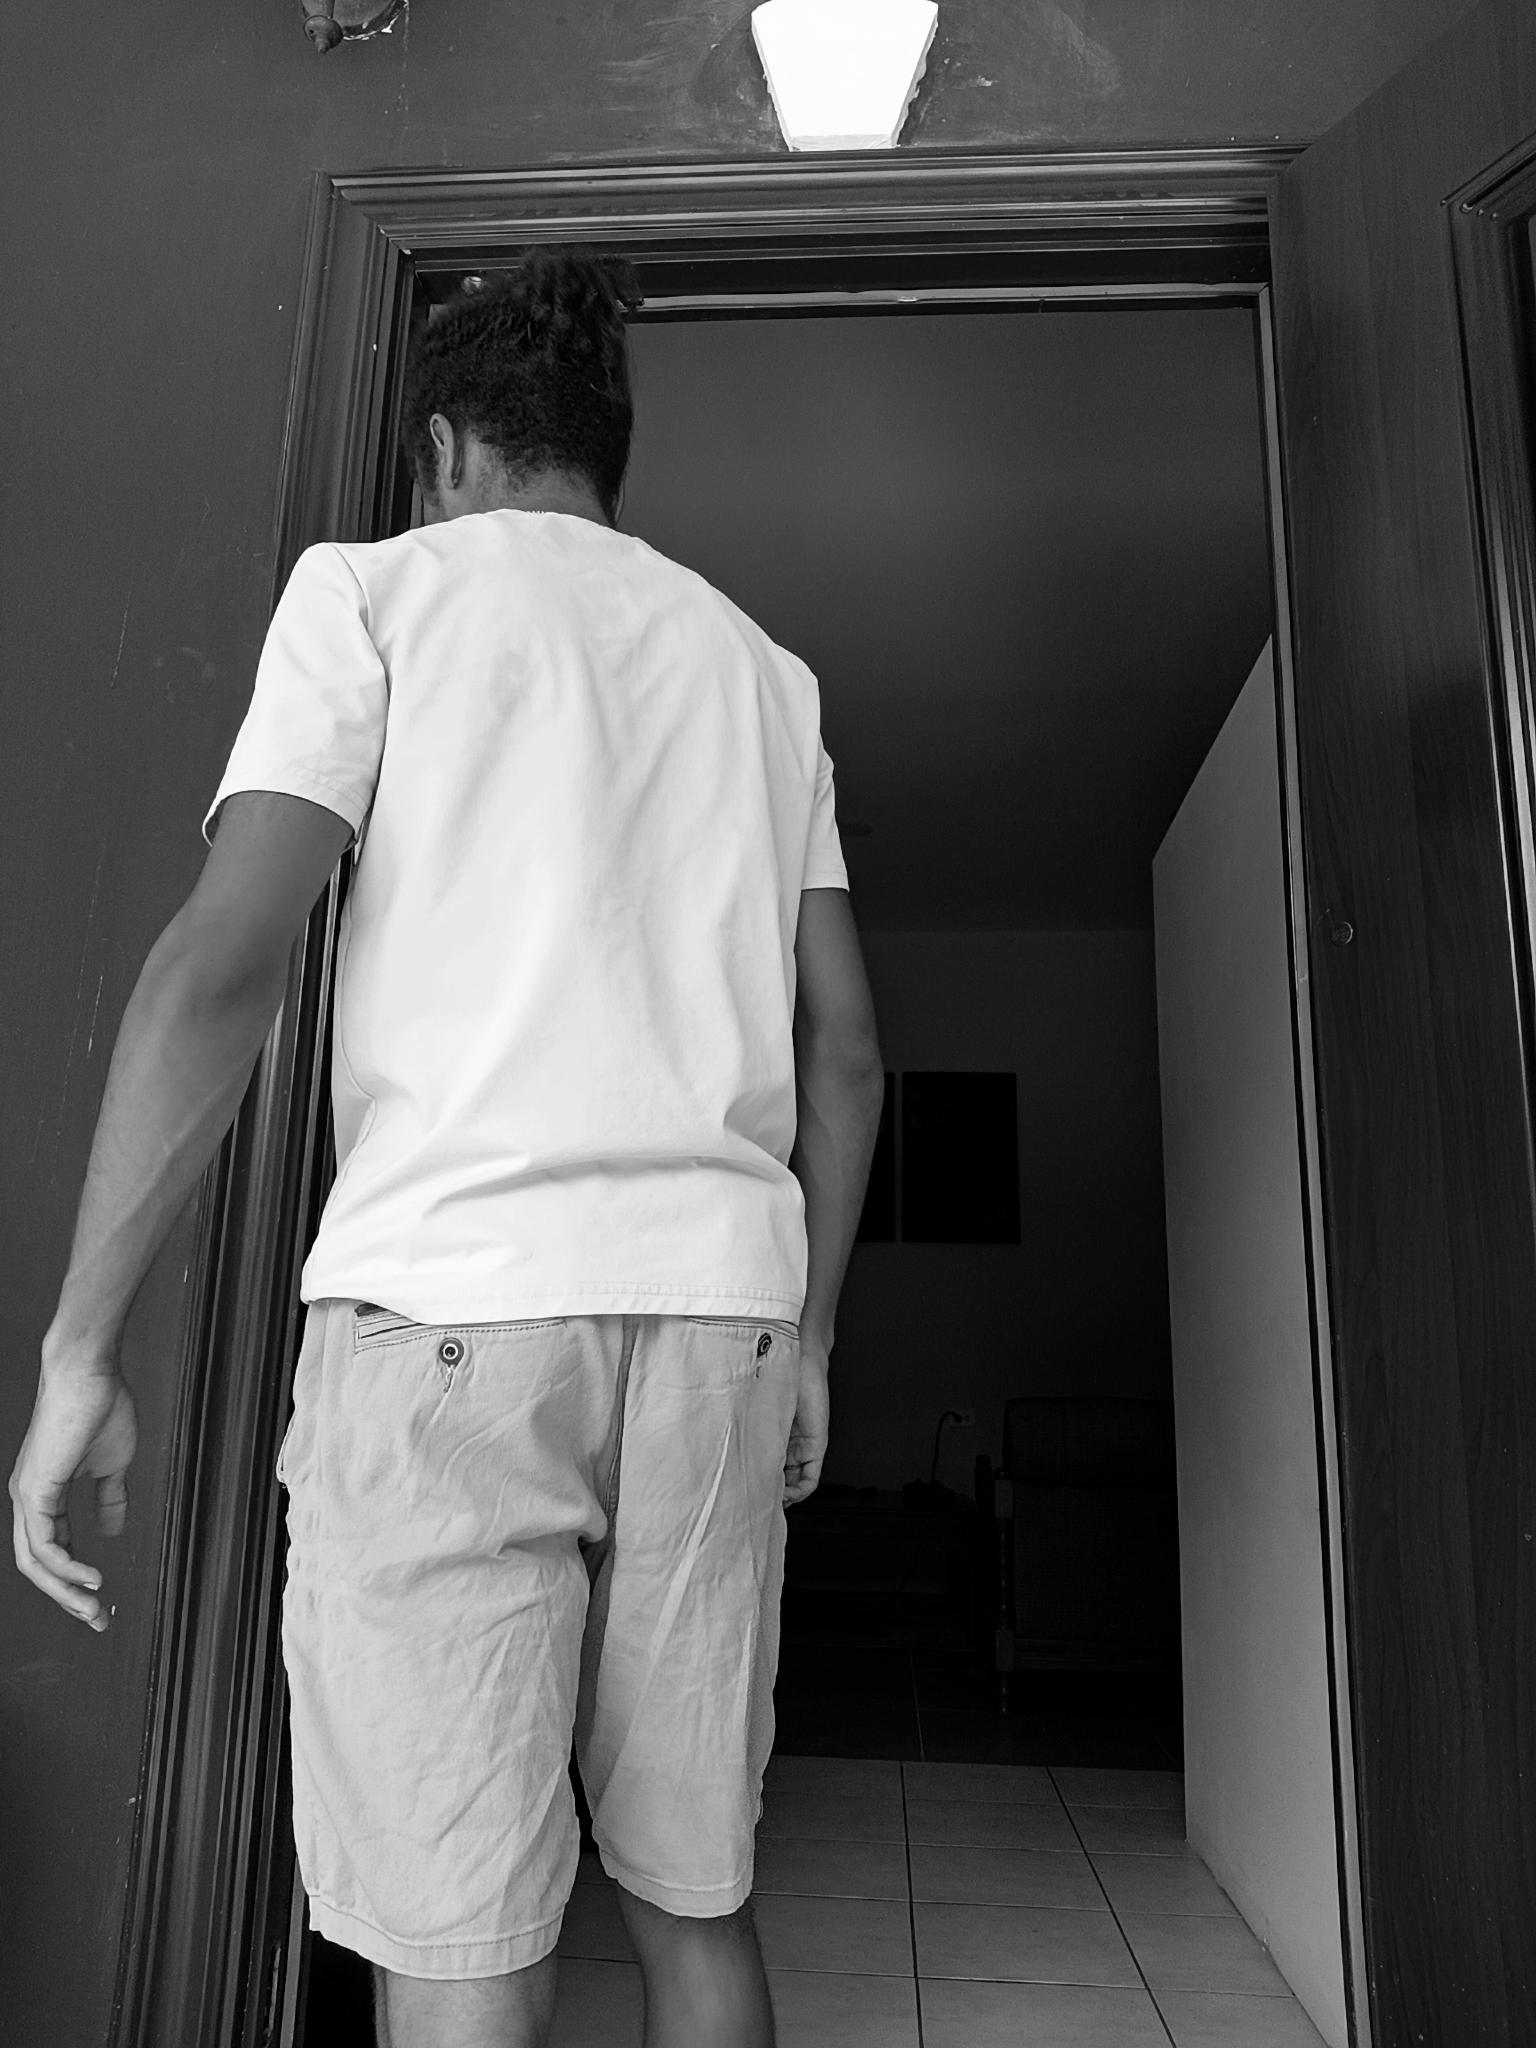back: (10, 245, 889, 2038)
